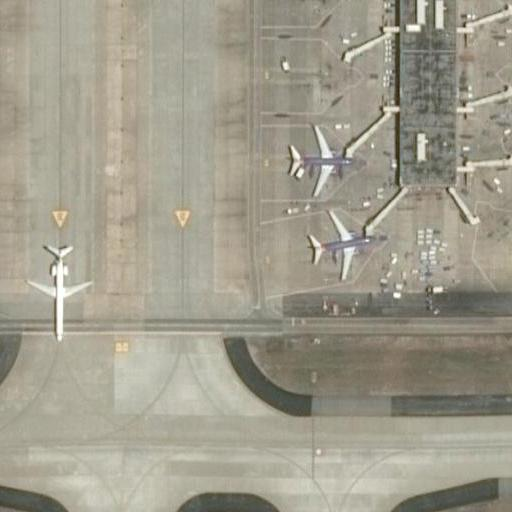Aircraft: (28, 236, 94, 338), (303, 208, 387, 280), (282, 126, 360, 192)
